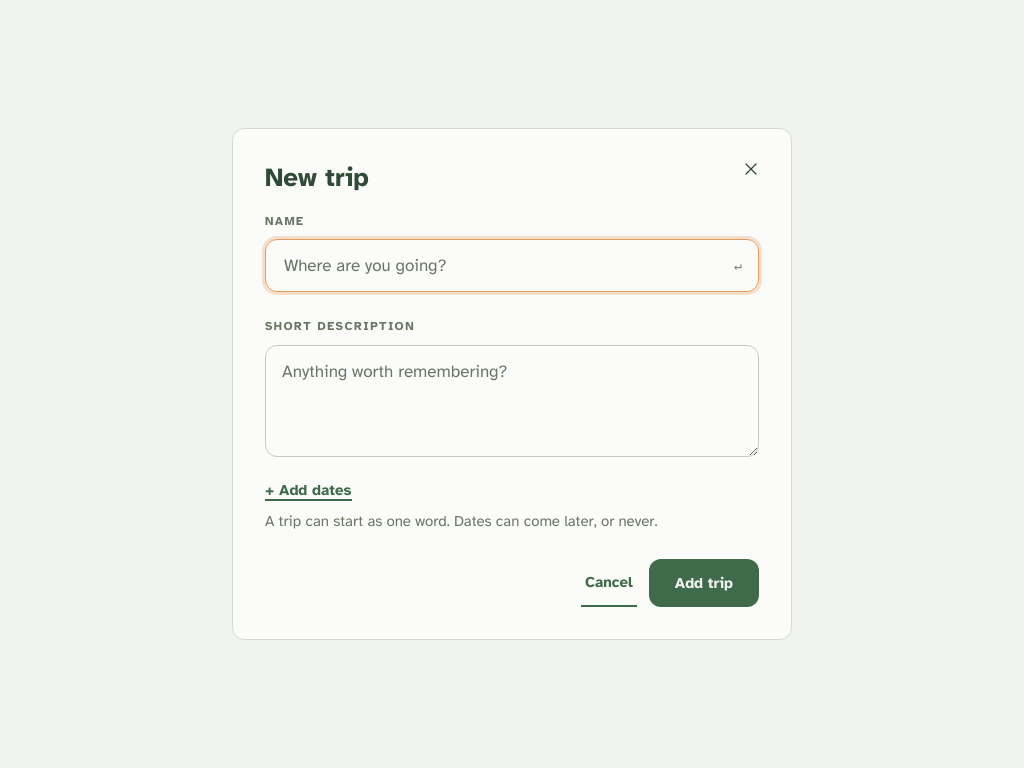
Scenario: NewTripModal › requires a name before it will submit, and clears the error once one is typed
Click the button "Add trip" at (704, 583), box [649,559,759,607]
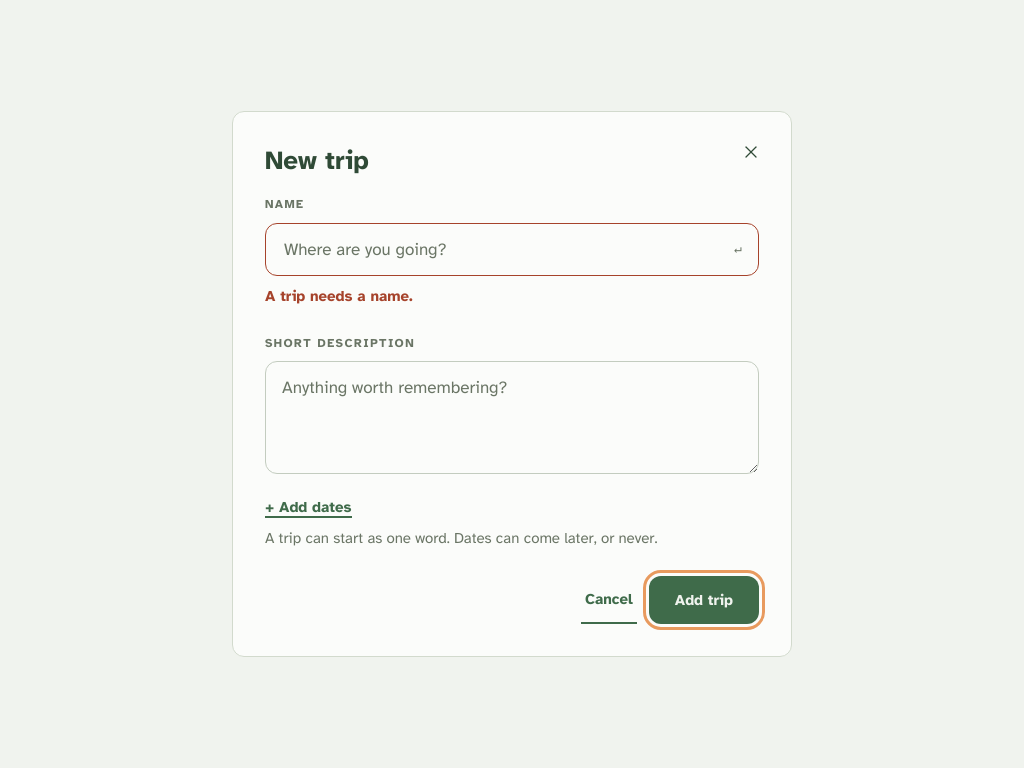
expect the message reads "A trip needs a name.": met, box [265,287,413,305]
Type "Malaysia" into the field labelled "Name" at (502, 249), box [282,238,722,261]
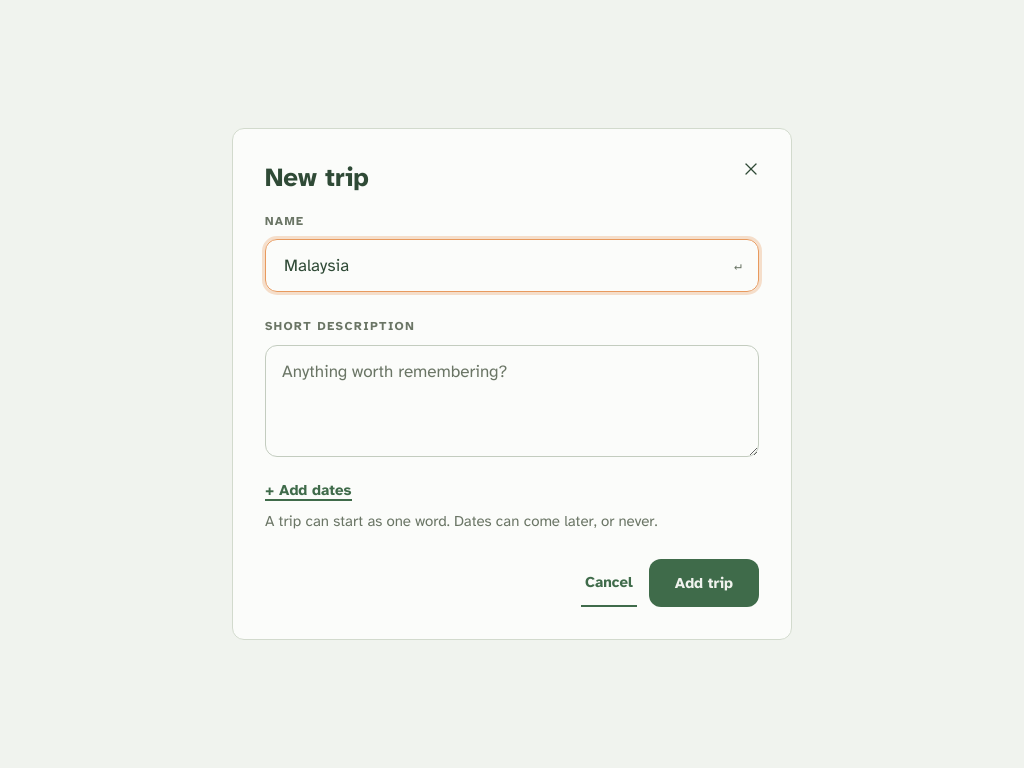
expect the message "A trip needs a name." is gone: met
